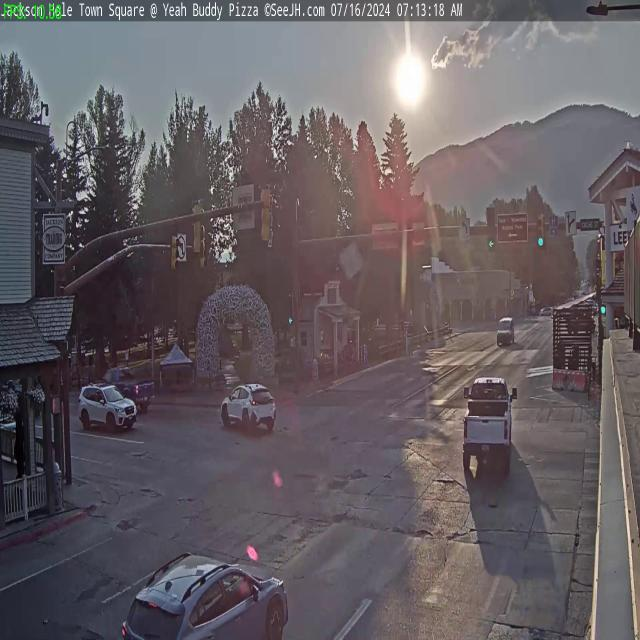pickup: (461, 375, 512, 476), (100, 370, 156, 410)
suv: (116, 546, 290, 639), (219, 381, 277, 436), (77, 384, 136, 434), (496, 315, 514, 346)
traffic light: (260, 184, 273, 243), (190, 200, 203, 256), (486, 207, 497, 248), (170, 231, 180, 274), (536, 214, 546, 247), (200, 239, 209, 273)
